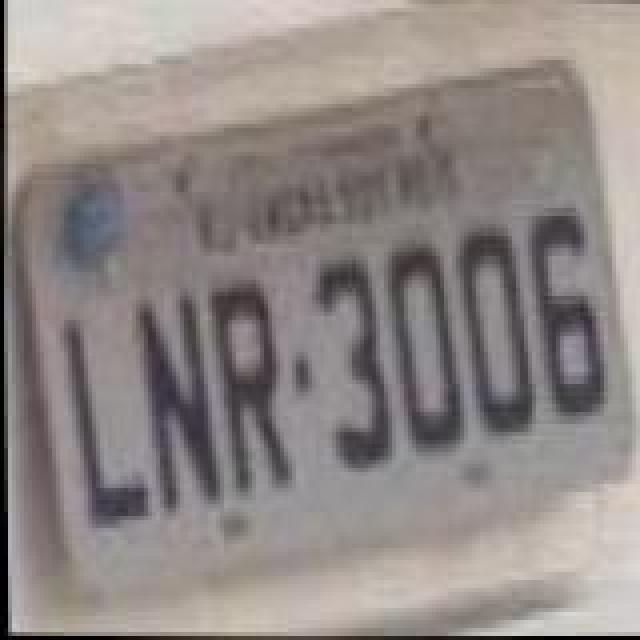3: (314, 254, 398, 470)
6: (526, 212, 610, 420)
L: (60, 320, 152, 528)
N: (132, 290, 224, 518)
O: (386, 248, 470, 456), (454, 232, 538, 440)
R: (208, 276, 292, 492)
